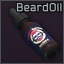Deadlyslobs beard oil: (0, 0, 64, 64)
